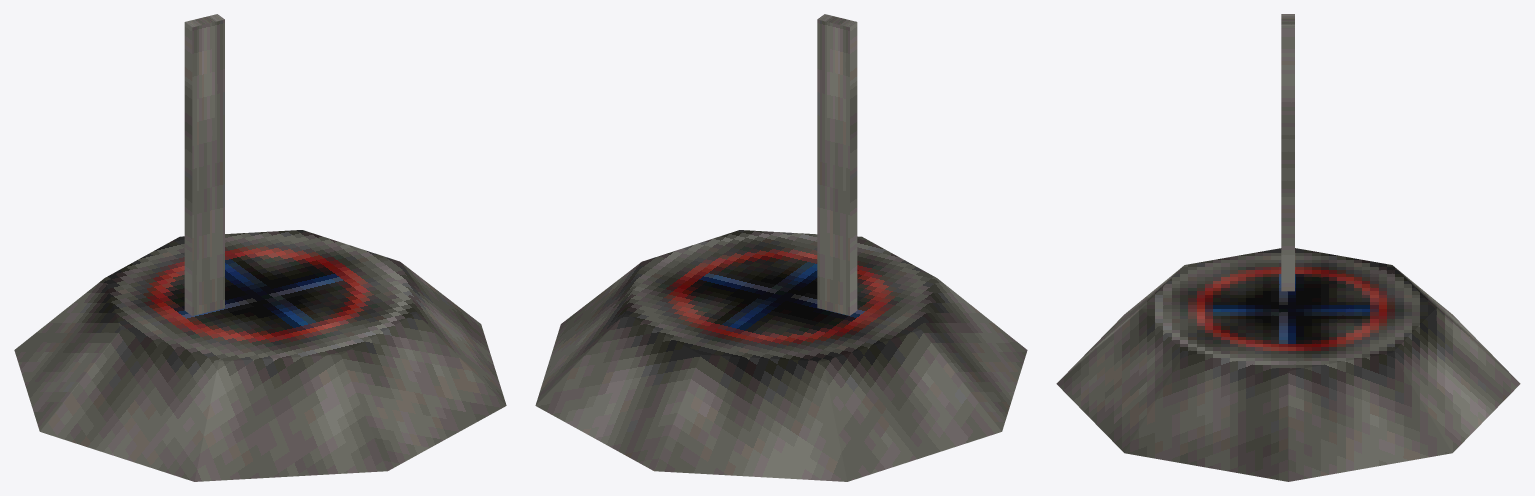
Rendered from RocketPad01.glb.
The picture shows the model from 3 angles, left to right: view 1: azimuth 30°, elevation 25°; view 2: azimuth 150°, elevation 25°; view 3: azimuth 270°, elevation 25°; orthographic projection. The views are drawn at different scales.
Visible parts, largest first — view 1: RocketPad01; view 2: RocketPad01; view 3: RocketPad01.
Part boxes in pixels (x1,y1,x2,y2): RocketPad01: (14, 14, 506, 481); RocketPad01: (535, 14, 1027, 481); RocketPad01: (1056, 14, 1520, 481).
Size of the model in its own units: 225 by 180 by 225.
1 material, 1 textured.
